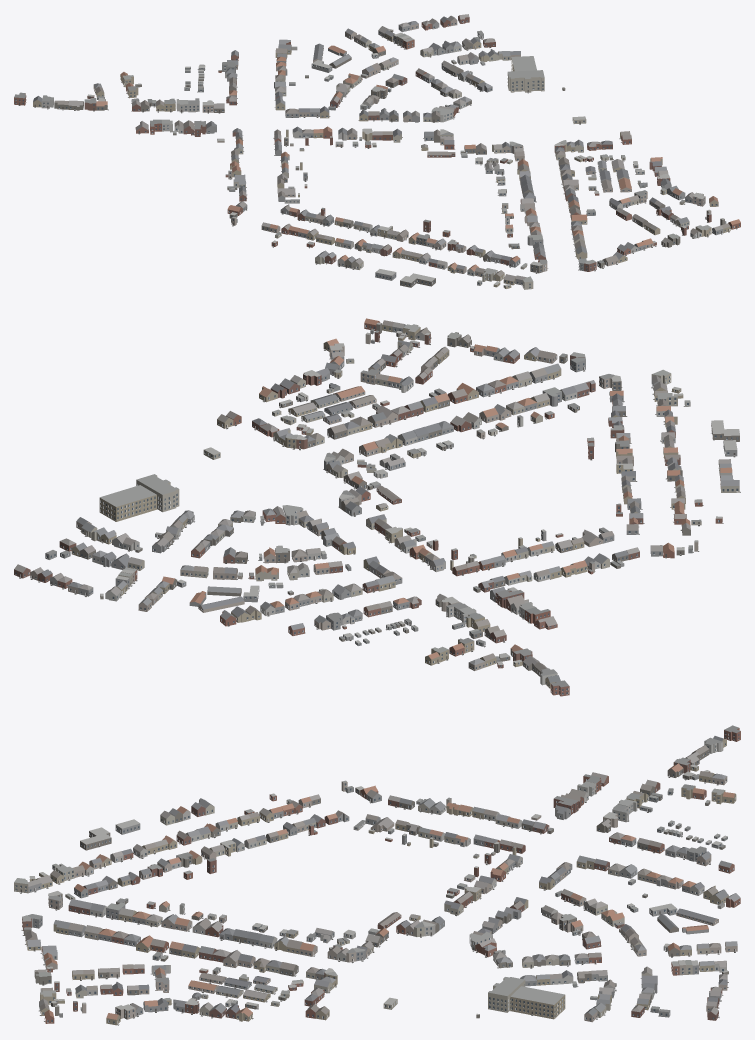
3 renders of one model, top to bottom at view 1: azimuth 30°, elevation 25°; view 2: azimuth 150°, elevation 25°; view 3: azimuth 270°, elevation 25°, orthographic. The views are drawn at different scales.
Visible parts, largest first — view 1: way/279905275; view 2: way/279905269, way/279905275; view 3: way/279905269, way/279905275, way/273373606.
Boxes of the visible parts, bbox=[...] form: way/279905275: bbox=[507, 70, 544, 93]; way/279905269: bbox=[99, 485, 156, 521]; way/279905275: bbox=[136, 474, 179, 512]; way/279905269: bbox=[510, 986, 565, 1019]; way/279905275: bbox=[488, 977, 525, 1012]; way/273373606: bbox=[80, 827, 111, 850].
Bounding box in the file's own units: 441 × 28.64 × 510.
